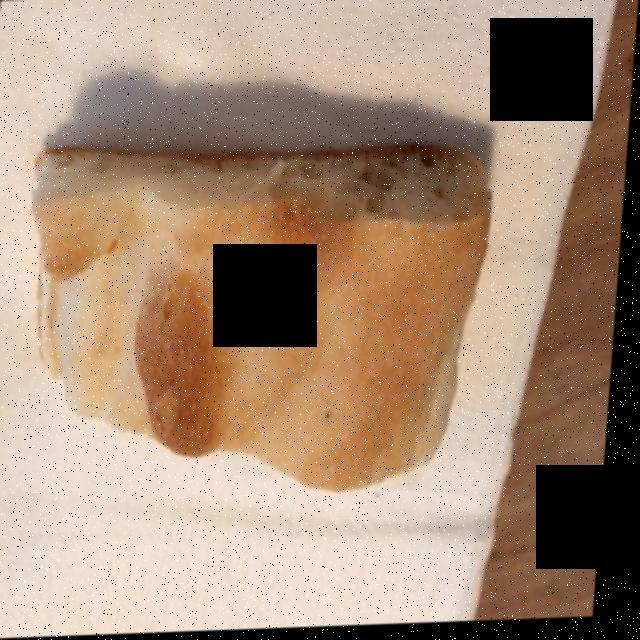bread: (42, 155, 484, 494)
